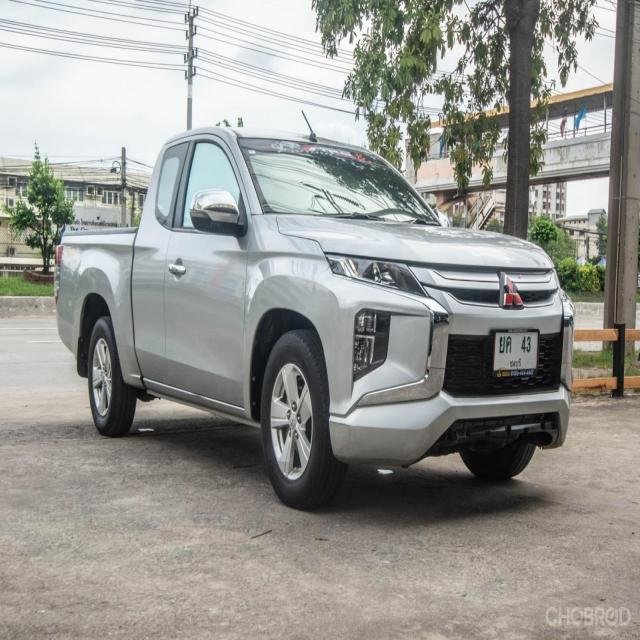license_plate: (488, 327, 542, 380)
